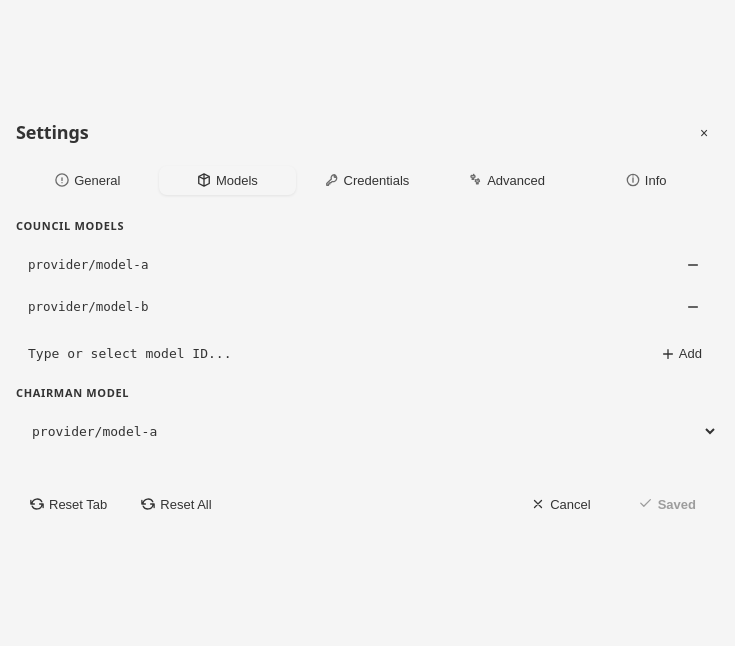
Settings › shows validation issues and disables save for invalid advanced inputs
Expected: the heading "Council Models" is shown, [16,218,124,232]
Click the button "Advanced": (507, 180) [438,166,575,194]
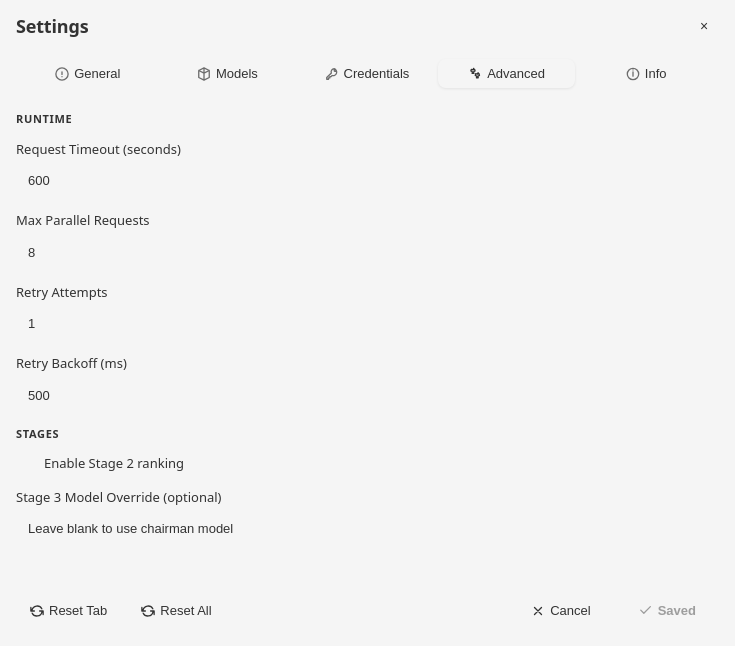
Replace the text in the number field labelled "Request Timeout (seconds)" with "5": (96, 180) [16,164,176,197]
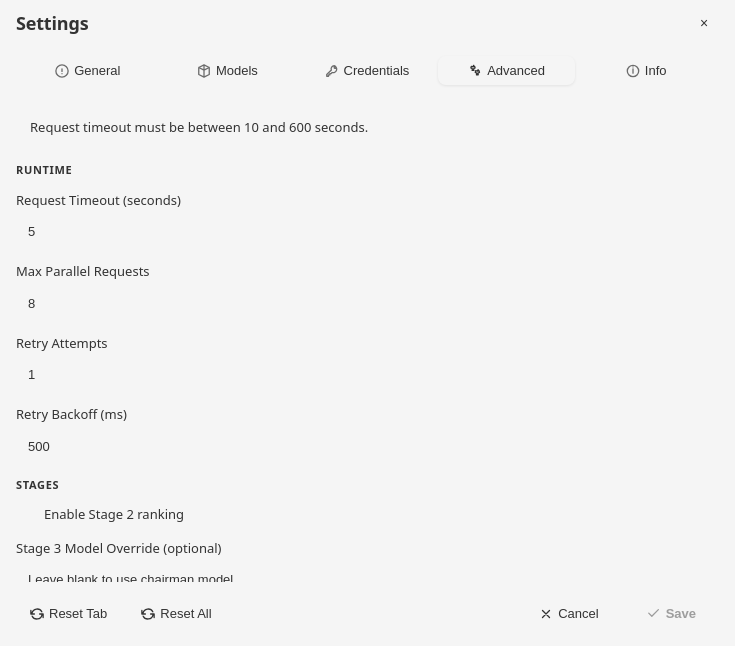
Expected: the button "Save" is disabled, [625,598,718,629]
Now the text "Request timeout must be between 10 and 600 seconds." is shown, box [30,118,368,136]
